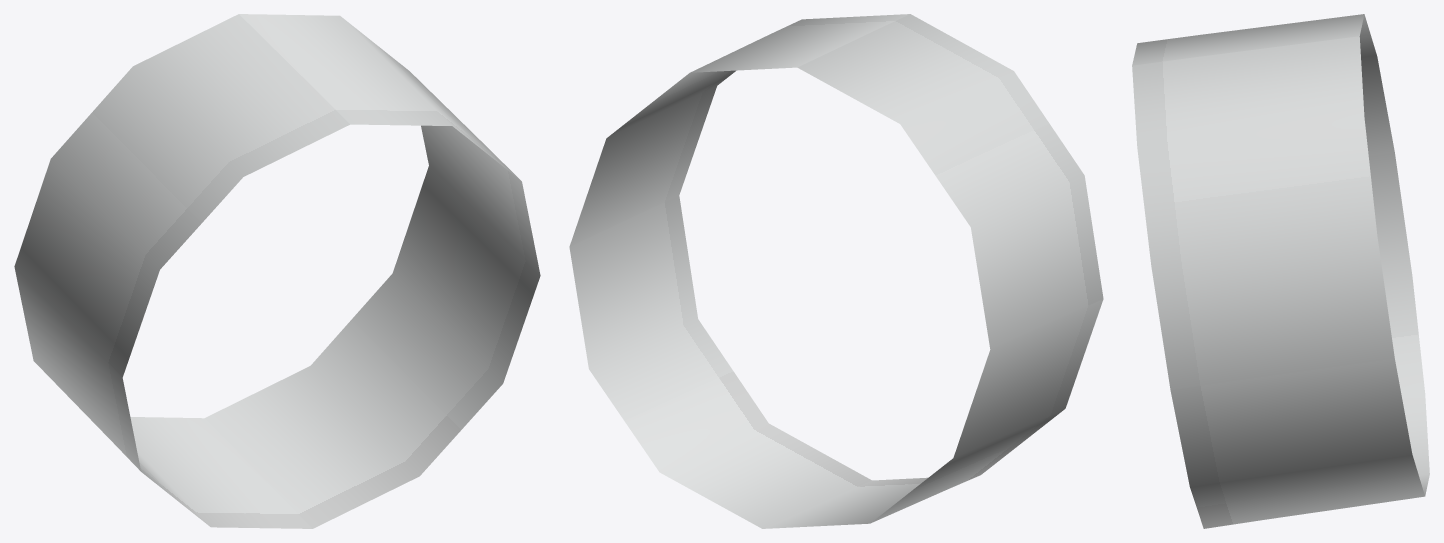
File: luminairearm_laupsweep12ft_c6.obj
3 views of the same model, side by side, from view 1: azimuth 30°, elevation 25°; view 2: azimuth 150°, elevation 25°; view 3: azimuth 270°, elevation 25° (orthographic). The views are drawn at different scales.
Parts seen in each view (by area): view 1: luminairearm_laupsweep12ft_c6; view 2: luminairearm_laupsweep12ft_c6; view 3: luminairearm_laupsweep12ft_c6.
Boxes of the visible parts, bbox=[...] form: luminairearm_laupsweep12ft_c6: bbox=[14, 14, 540, 528]; luminairearm_laupsweep12ft_c6: bbox=[569, 14, 1103, 528]; luminairearm_laupsweep12ft_c6: bbox=[1132, 14, 1429, 528].
Size of the model in its own units: 0.194 by 0.2045 by 0.1174.
